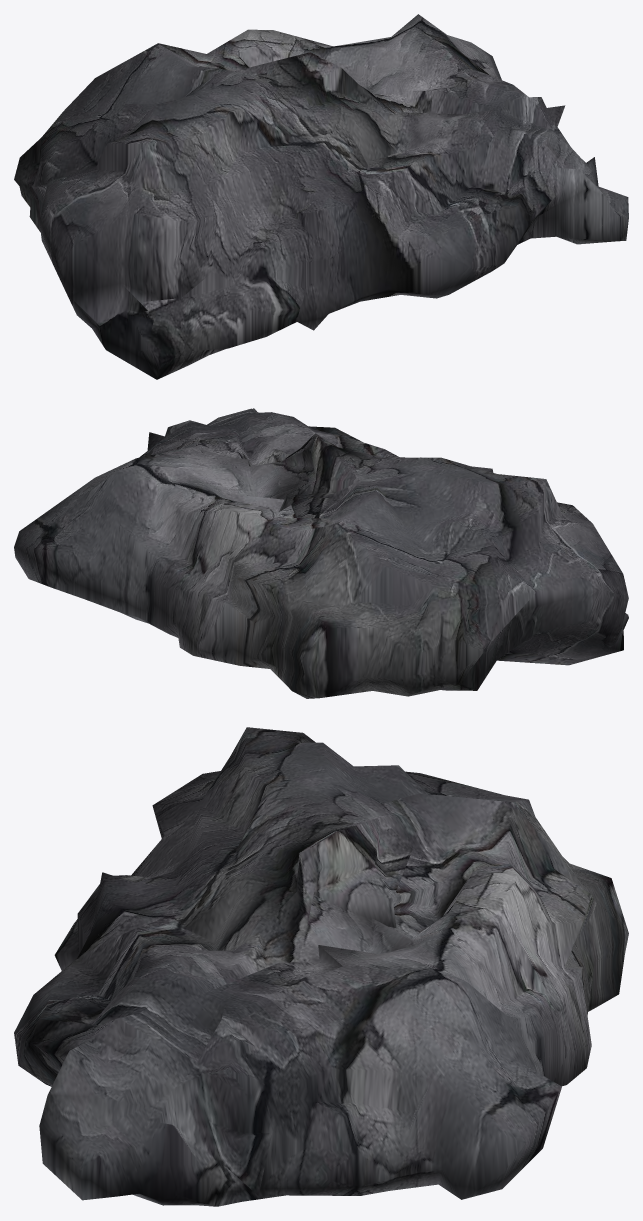
File: RockWall3.fbx
3 views of the same model, one above another, from view 1: azimuth 30°, elevation 25°; view 2: azimuth 150°, elevation 25°; view 3: azimuth 270°, elevation 25° (orthographic). The views are drawn at different scales.
Visible parts, largest first — view 1: Куб.076; view 2: Куб.076; view 3: Куб.076.
Boxes of the visible parts, <box> form: Куб.076: <box>14,14,628,379</box>; Куб.076: <box>14,408,628,698</box>; Куб.076: <box>14,727,628,1206</box>.
Size of the model in its own units: 503 by 197 by 380.
